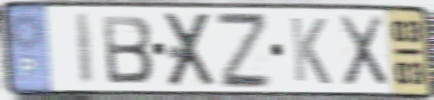B: (99, 13, 156, 86)
I: (73, 12, 97, 88)
K: (287, 14, 333, 87)
X: (162, 11, 219, 90), (335, 13, 390, 89)
Z: (213, 10, 275, 91)
